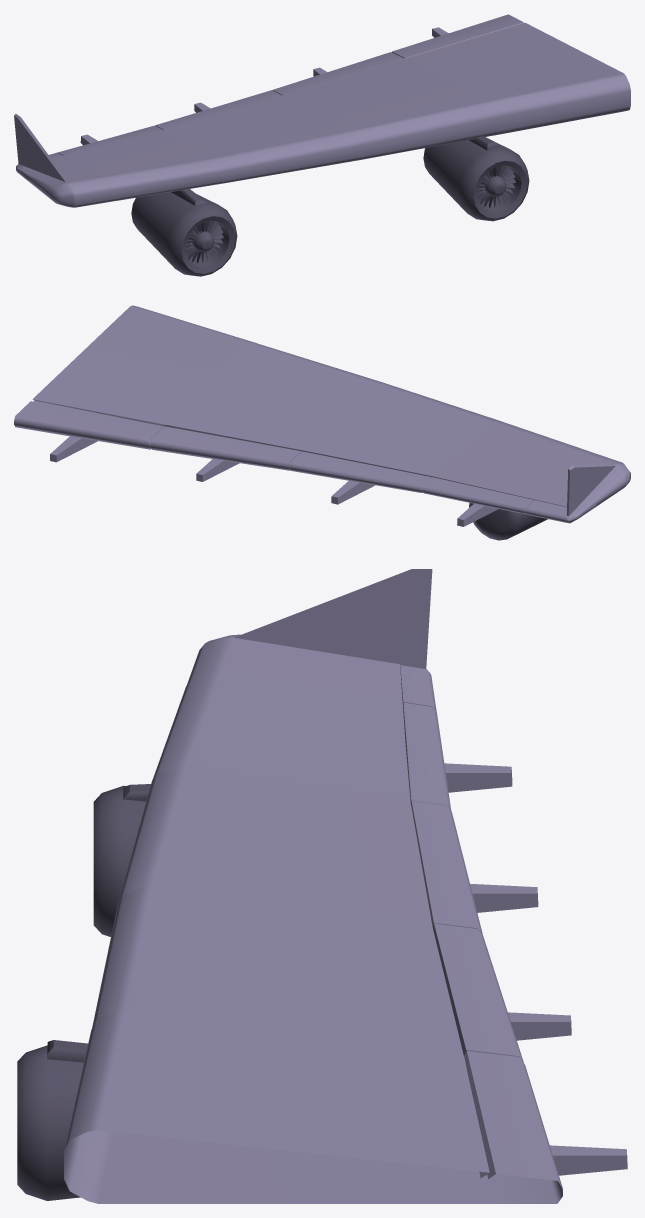
The model's file is aeroplane_wing.fbx.
3 renders of one model, top to bottom at view 1: azimuth 30°, elevation 25°; view 2: azimuth 150°, elevation 25°; view 3: azimuth 270°, elevation 25°, orthographic. The views are drawn at different scales.
Visible parts, largest first — view 1: earo_engine4; view 2: earo_engine4; view 3: earo_engine4.
Part boxes in pixels (<box>): earo_engine4: <box>14,14,630,276</box>; earo_engine4: <box>14,305,630,540</box>; earo_engine4: <box>17,569,627,1203</box>.
Bounding box in the file's own units: 58.07 × 13.53 × 28.8.
